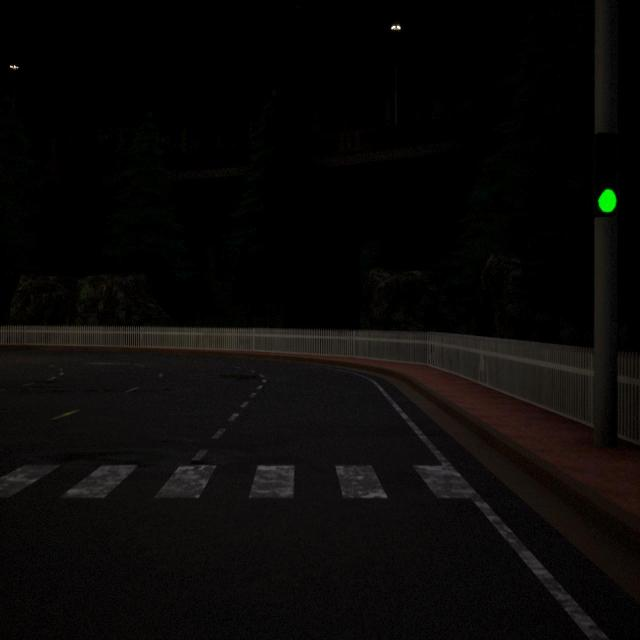traffic_light: (592, 137, 620, 218)
